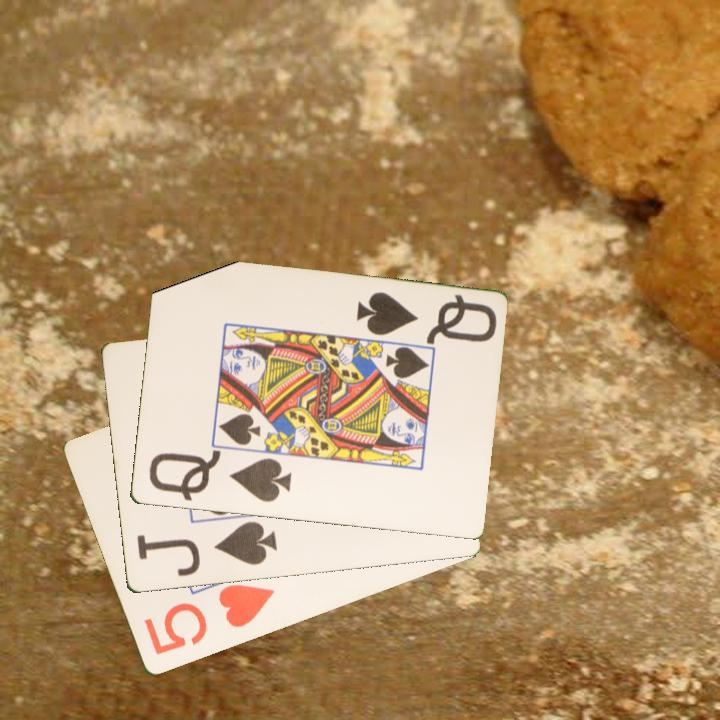5h: (140, 581, 278, 659)
Js: (133, 518, 279, 580)
Qs: (352, 288, 499, 346), (145, 449, 294, 506)
